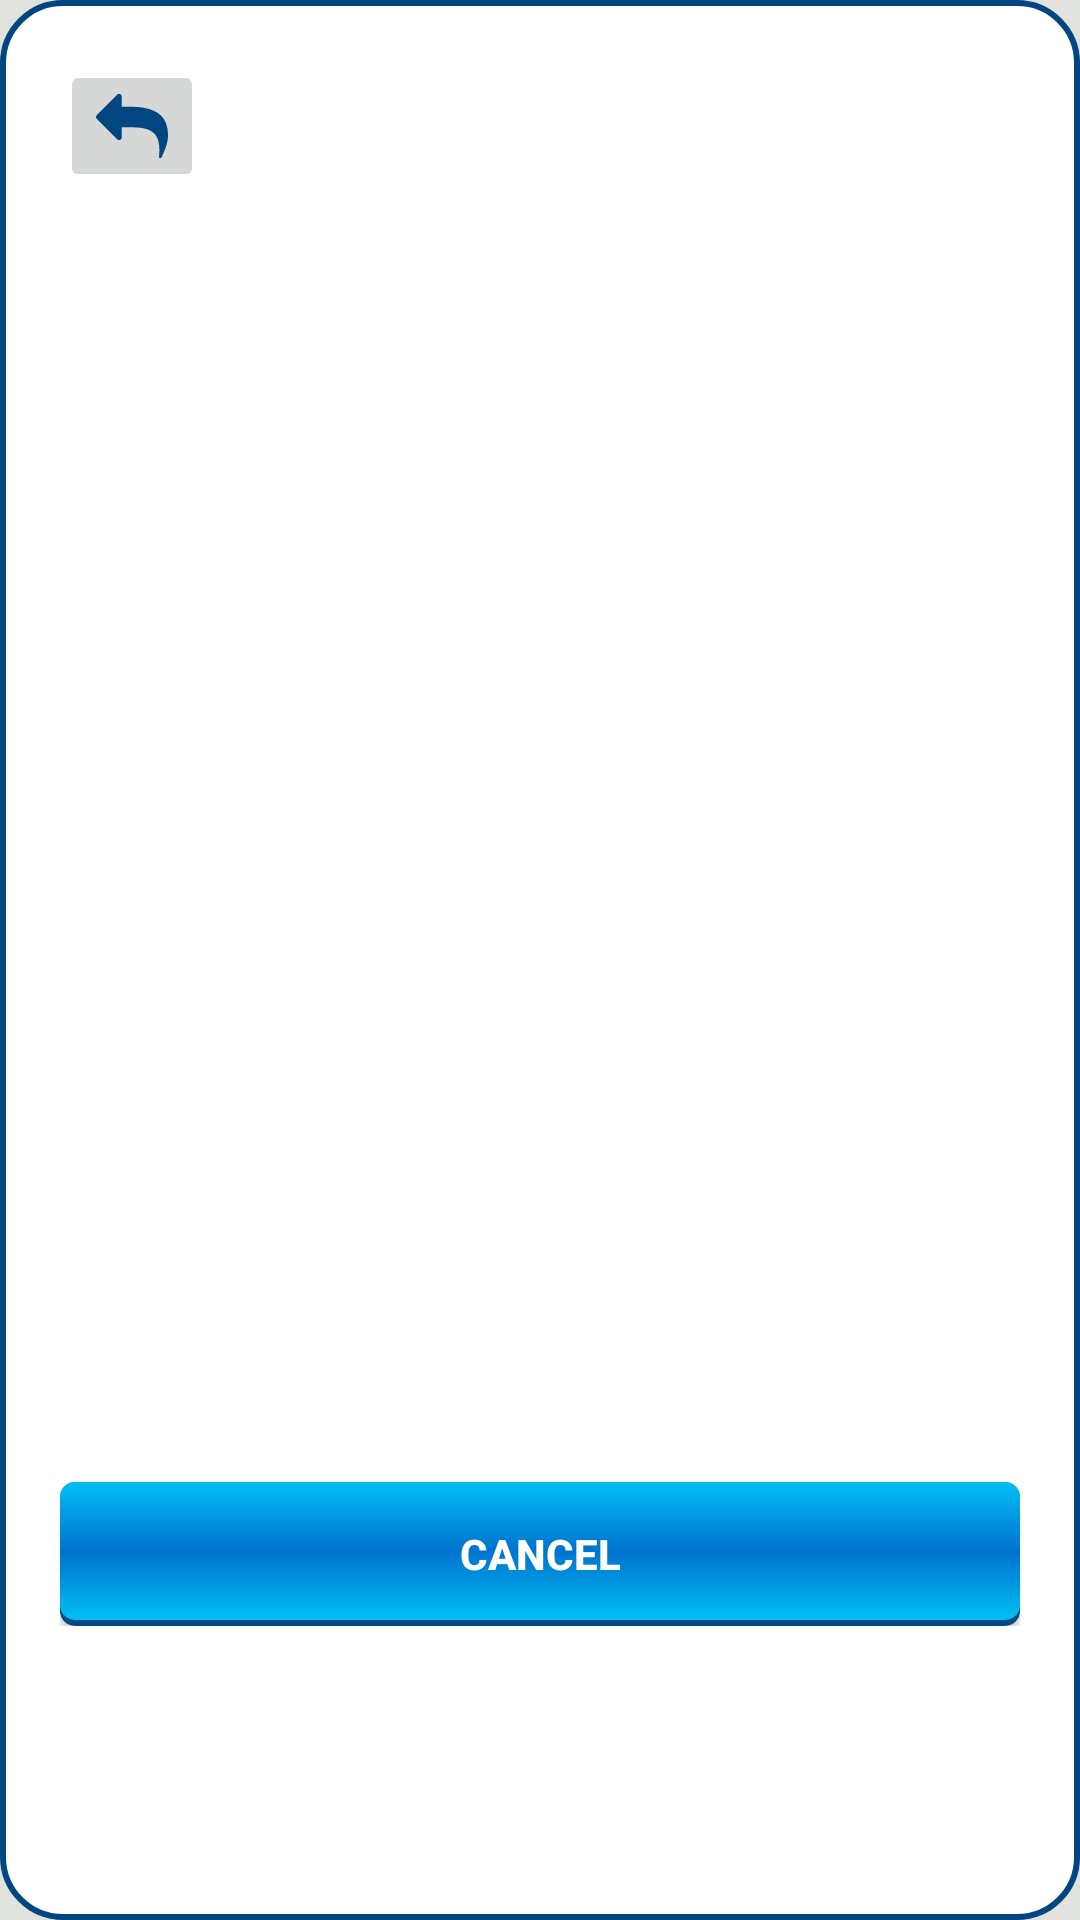

Where to tap for icons on this 1080w x 1920h app screen, as [x,y]:
back: [132,126]
